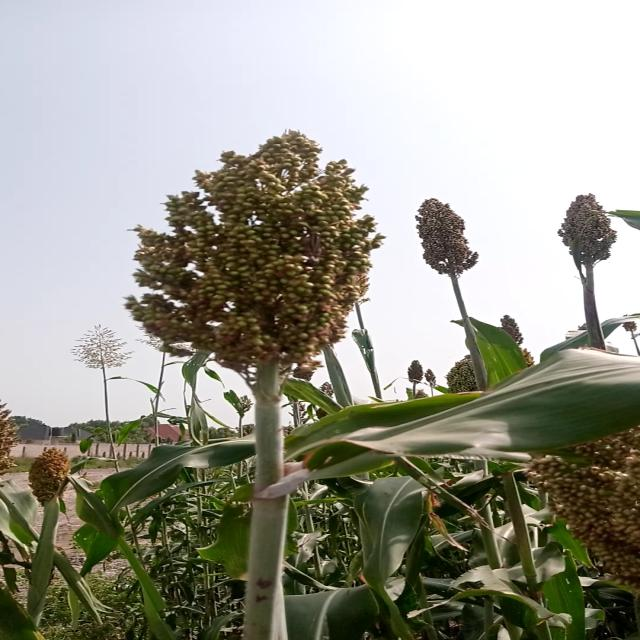UnripeSorghum: (125, 123, 371, 379), (506, 401, 640, 588), (9, 437, 115, 510)
